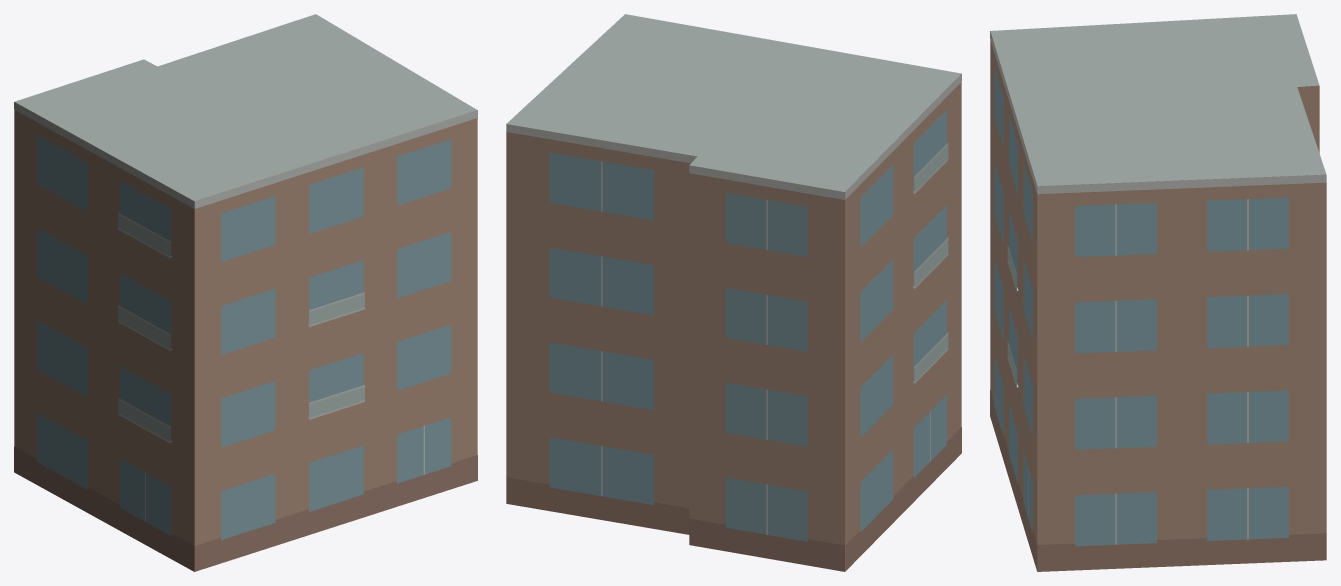
The model's file is survey-upis-32475617.glb.
3 renders of one model, left to right at view 1: azimuth 30°, elevation 25°; view 2: azimuth 150°, elevation 25°; view 3: azimuth 270°, elevation 25°, orthographic. The views are drawn at different scales.
Visible parts, largest first — view 1: survey-upis-32475617.tmp; view 2: survey-upis-32475617.tmp; view 3: survey-upis-32475617.tmp.
Boxes of the visible parts, x1,y1,x2,y2 form: survey-upis-32475617.tmp: [14, 14, 477, 571]; survey-upis-32475617.tmp: [506, 14, 961, 571]; survey-upis-32475617.tmp: [990, 14, 1326, 571].
Size of the model in its own units: 11.21 by 11.7 by 9.26.
